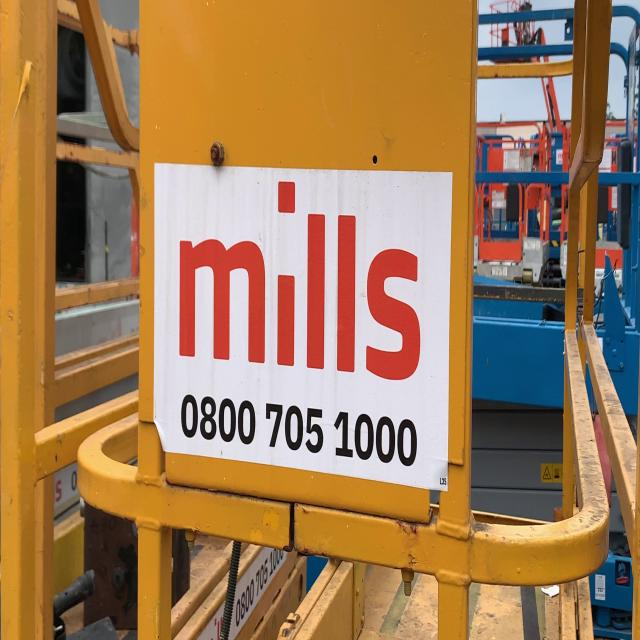Adesivos: (152, 158, 455, 496)
